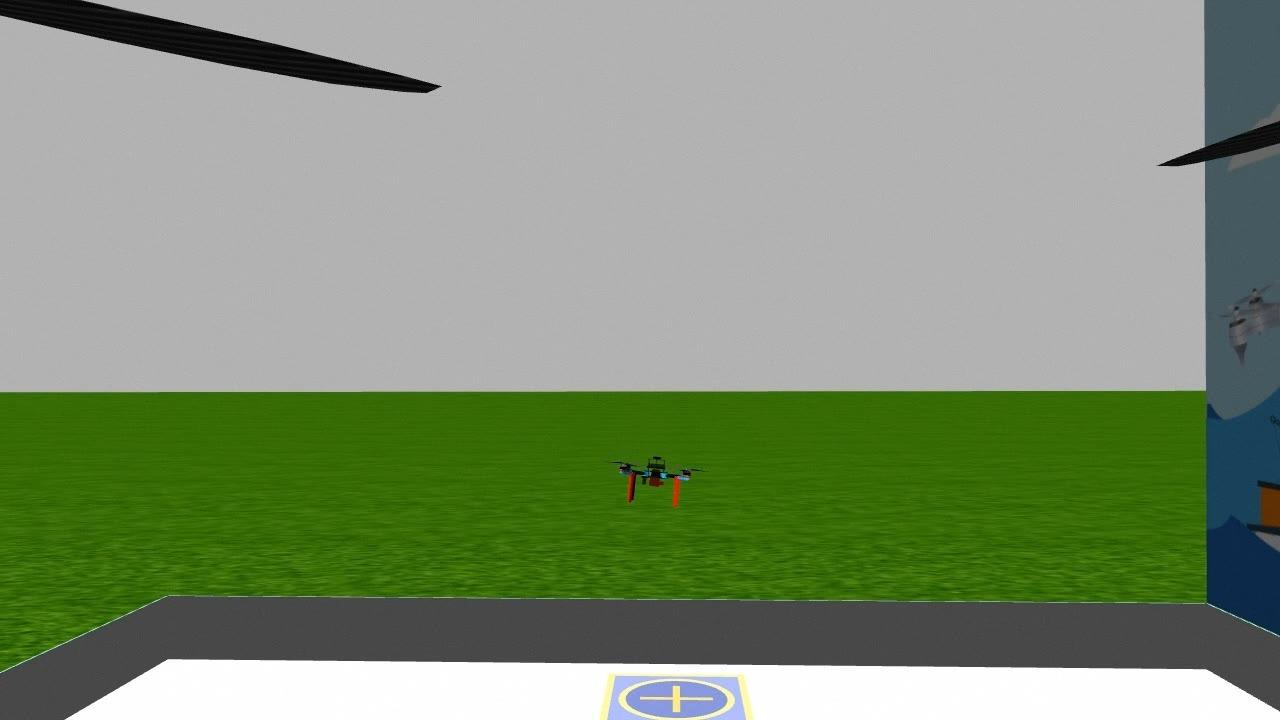UAV: (606, 443, 712, 512)
